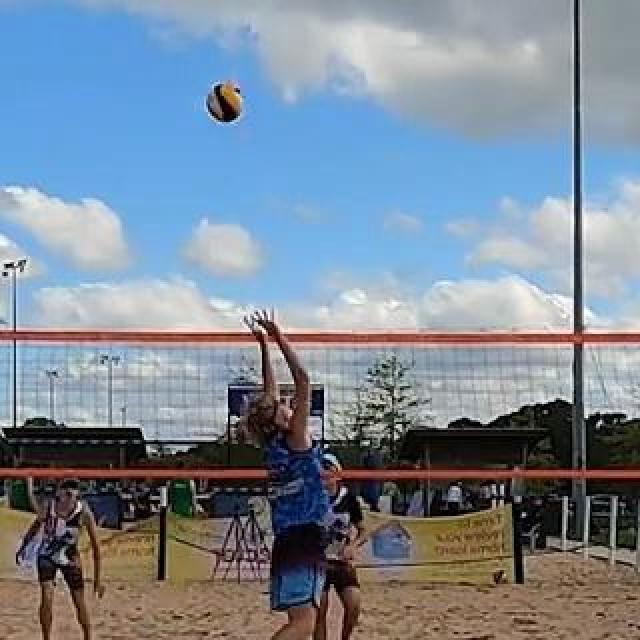volleyball: (208, 84, 244, 122), (493, 570, 509, 584)
